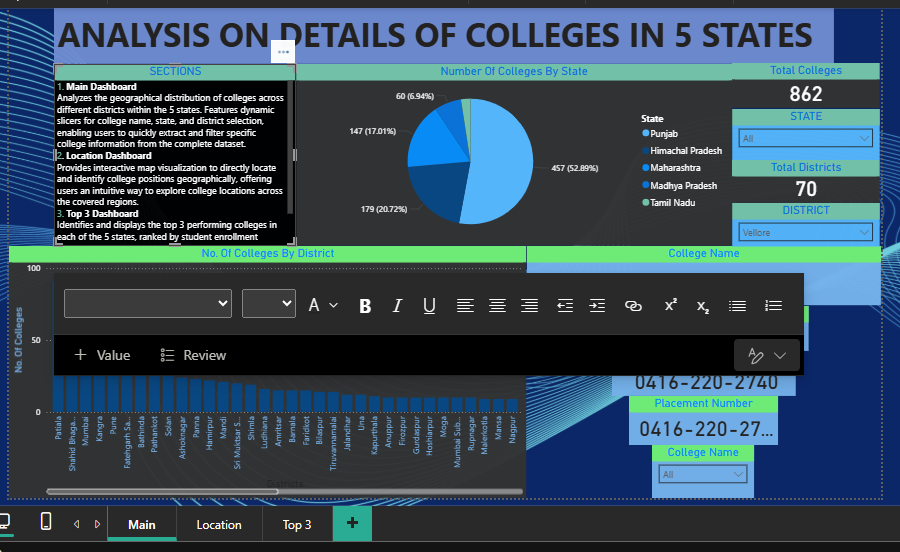

The page's visual inventory and layout, read from the dashboard file:
{"tool":"powerbi","page":{"name":"Main","canvas":[1280,720],"ordinal":0},"visuals":[{"type":"textbox","box":[65.9,0,1145.8,82.3],"z":0},{"type":"clusteredColumnChart","title":"No. Of Colleges By District","fields":{"Category":["Table1.District"],"Y":["CountNonNull(Table1.College Name)"]},"box":[0,350,760.5,369.8],"z":1000},{"type":"card","title":"Placement Number","fields":{"Values":["Min(Table1.Placement cell no)"]},"box":[911.6,569.8,218.6,72.1],"z":2000},{"type":"card","title":"Mail ID","fields":{"Values":["Min(Table1.Mail id)"]},"box":[866.3,437.2,308.1,66.3],"z":3000},{"type":"card","title":"Directors/Principal Number","fields":{"Values":["Min(Table1.Principal/ Director No)"]},"box":[886,503.5,269.8,66.3],"z":4000},{"type":"card","title":"College Name","fields":{"Values":["Min(Table1.College Name)"]},"box":[760.5,350,519.8,87.2],"z":5000},{"type":"slicer","title":"College Name","fields":{"Values":["Table1.College Name"]},"box":[945.4,641.9,150,77.9],"z":6000},{"type":"slicer","title":"STATE","fields":{"Values":["Table1.State"]},"box":[1062.8,147.7,217.4,75.6],"z":7000},{"type":"slicer","title":"DISTRICT","fields":{"Values":["Table1.District"]},"box":[1062.8,286,217.4,64],"z":8000},{"type":"pieChart","title":"Number Of Colleges By State","fields":{"Category":["Table1.State"],"Y":["CountNonNull(Table1.College Name)"]},"box":[422.1,82.6,640.7,267.4],"z":9000},{"type":"card","title":"Total Colleges","fields":{"Values":["Count(Table1.College Name)"]},"box":[1062.8,81.4,217.4,66.3],"z":10000},{"type":"card","title":"Total Districts","fields":{"Values":["Count(Table1.District)"]},"box":[1062.8,223.3,217.4,62.8],"z":11000},{"type":"textbox","title":"SECTIONS","box":[66,83,356,267],"z":12000}]}

Visuals, with their boxes on the page's 1280x720 design canvas (x1, y1, x2, y2). These are canvas units, not pixel positions in the 900x552 screenshot, which may show the page scaled, cropped or inside an application window:
textbox: box=[66, 0, 1212, 82]
"No. Of Colleges By District" clusteredColumnChart: box=[0, 350, 760, 720]
"Placement Number" card: box=[912, 570, 1130, 642]
"Mail ID" card: box=[866, 437, 1174, 504]
"Directors/Principal Number" card: box=[886, 504, 1156, 570]
"College Name" card: box=[760, 350, 1280, 437]
"College Name" slicer: box=[945, 642, 1095, 720]
"STATE" slicer: box=[1063, 148, 1280, 223]
"DISTRICT" slicer: box=[1063, 286, 1280, 350]
"Number Of Colleges By State" pieChart: box=[422, 83, 1063, 350]
"Total Colleges" card: box=[1063, 81, 1280, 148]
"Total Districts" card: box=[1063, 223, 1280, 286]
"SECTIONS" textbox: box=[66, 83, 422, 350]
